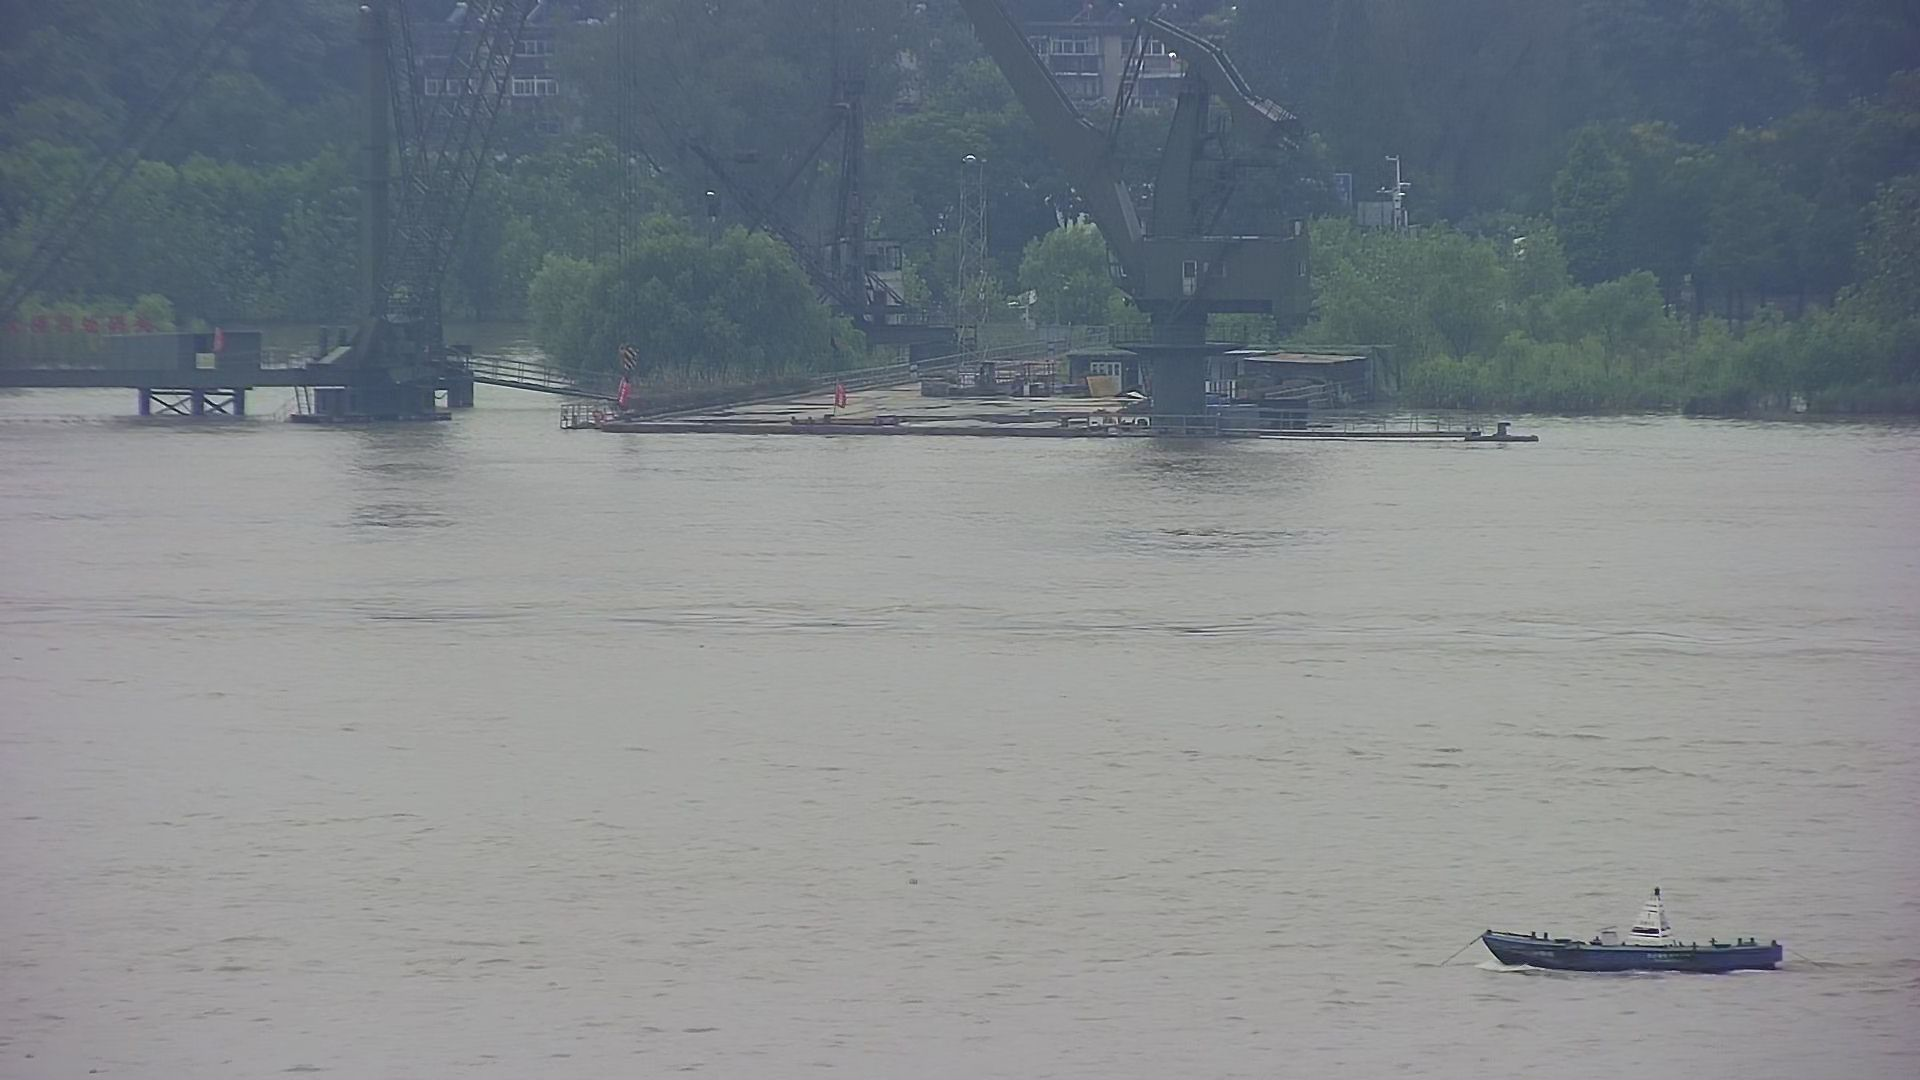boat: (1455, 866, 1803, 982)
platform: (1, 1, 502, 438)
